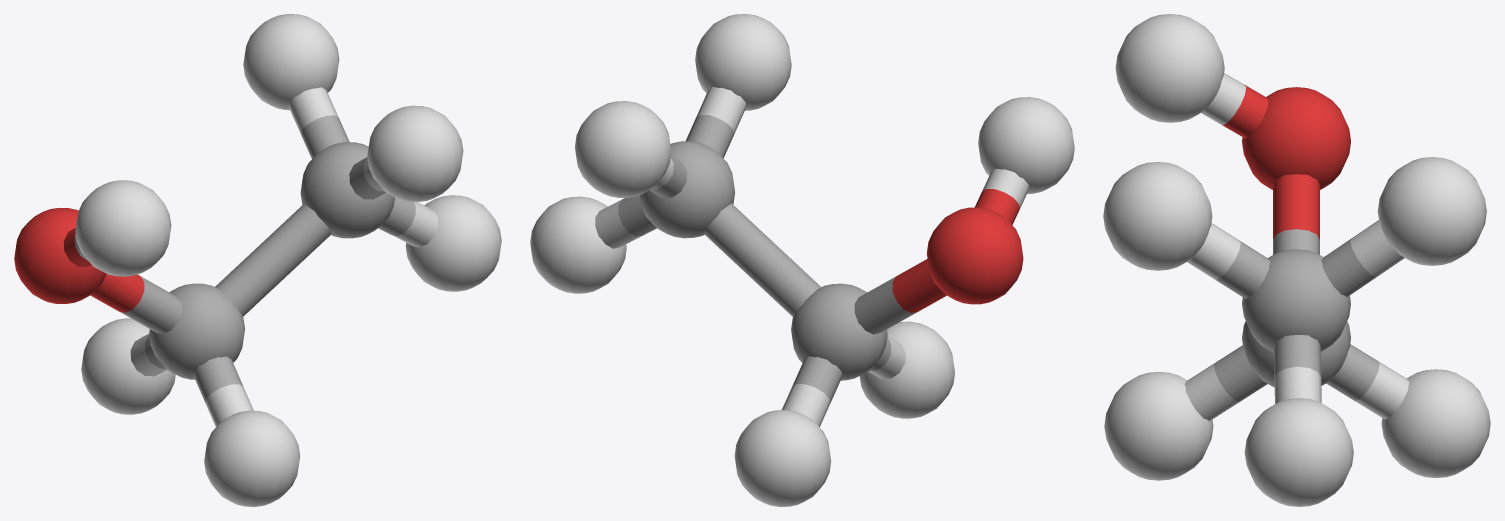
File: ethanol-bas.glb
The picture shows the model from 3 angles, left to right: view 1: azimuth 30°, elevation 25°; view 2: azimuth 150°, elevation 25°; view 3: azimuth 270°, elevation 25°; orthographic projection. The views are drawn at different scales.
Parts seen in each view (by area): view 1: ethanol-bas; view 2: ethanol-bas; view 3: ethanol-bas.
Boxes of the visible parts, x1,y1,x2,y2 form: ethanol-bas: (14,14,501,506); ethanol-bas: (530,14,1074,506); ethanol-bas: (1103,14,1490,506).
Size of the model in its own units: 3.98 by 2.84 by 2.48.
